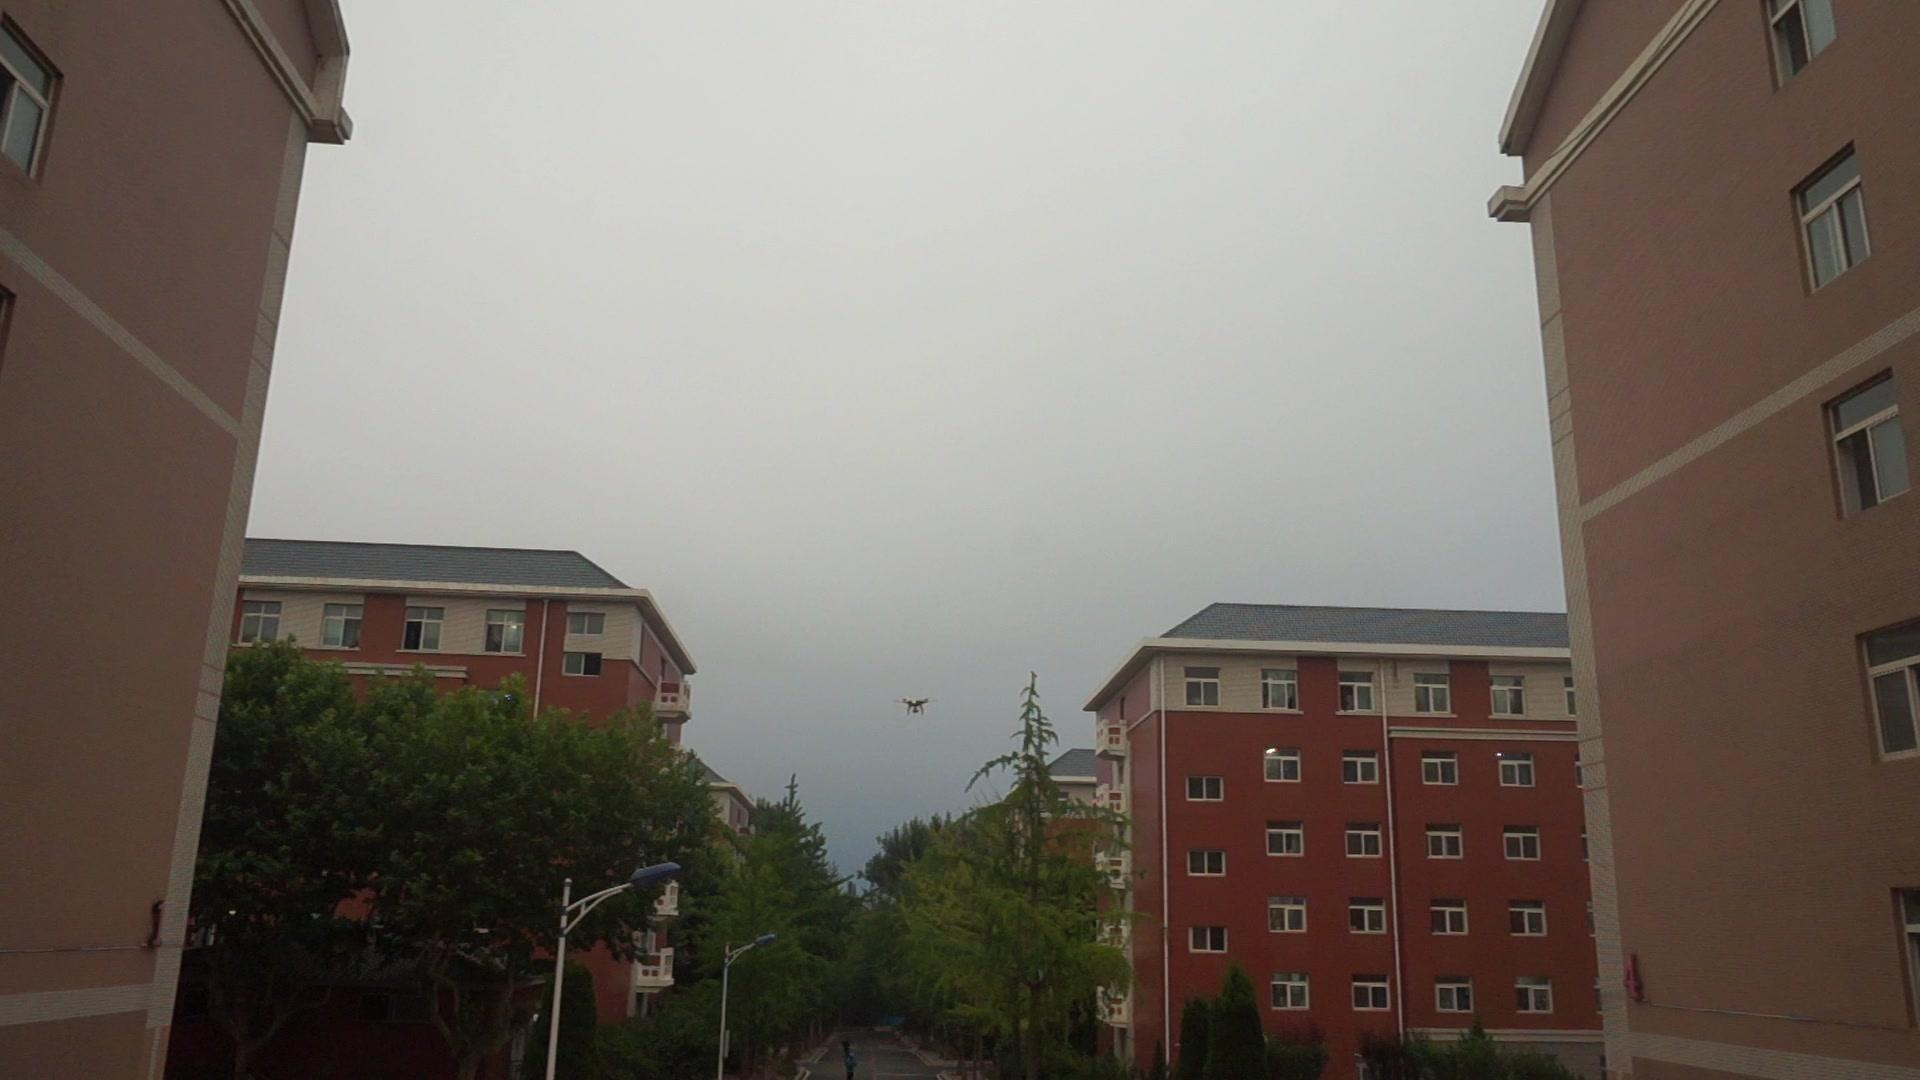UAV: (902, 699, 930, 717)
